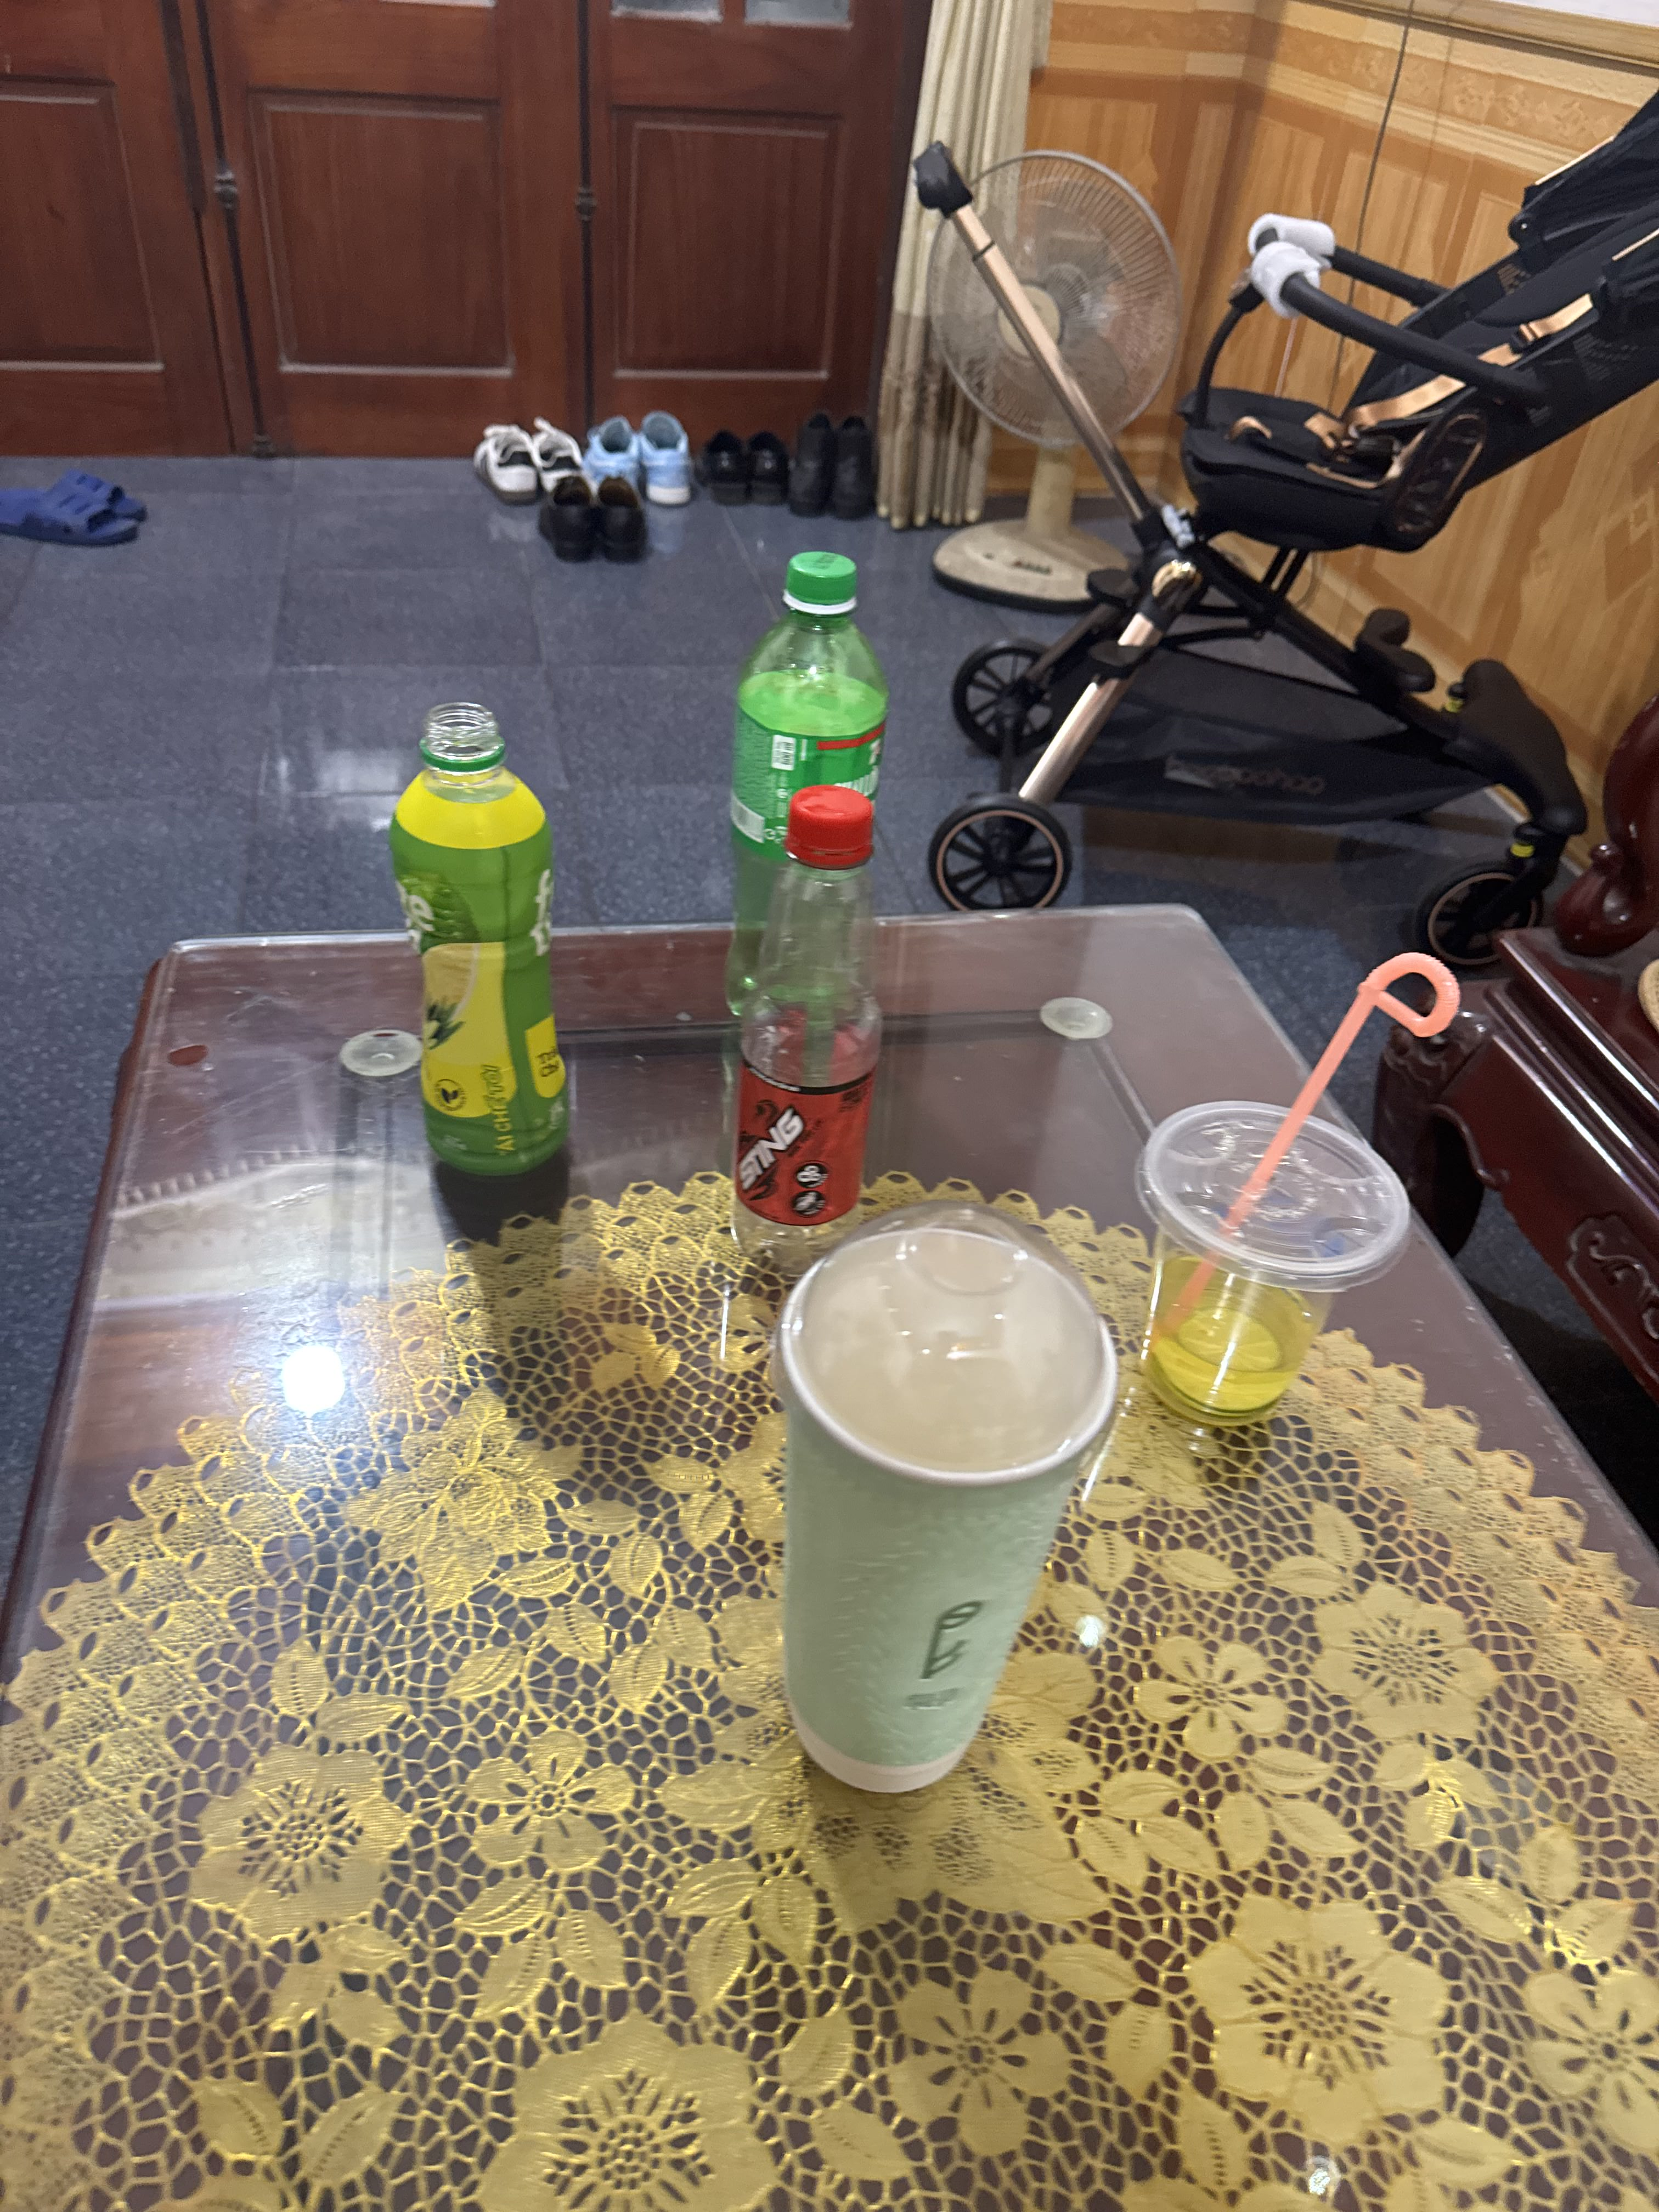2: (760, 1163, 1129, 1879), (1108, 1064, 1443, 1477)
bottle: (349, 664, 633, 1204), (699, 533, 924, 1033), (709, 770, 910, 1308)
